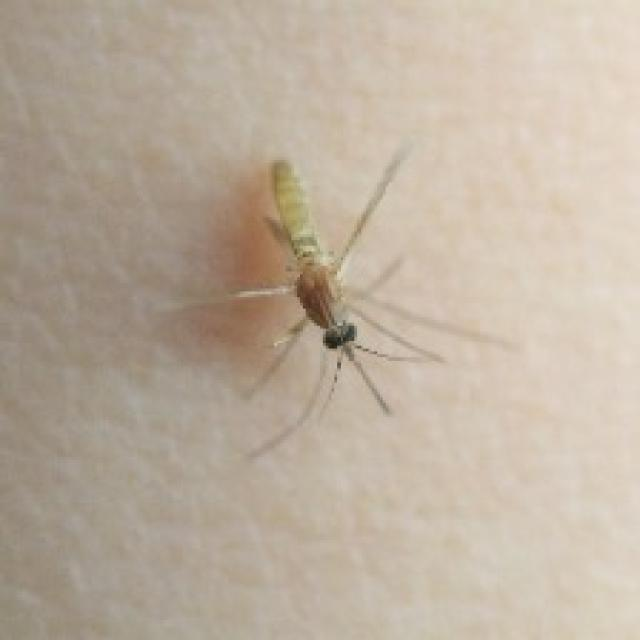culex: (154, 134, 520, 463)
